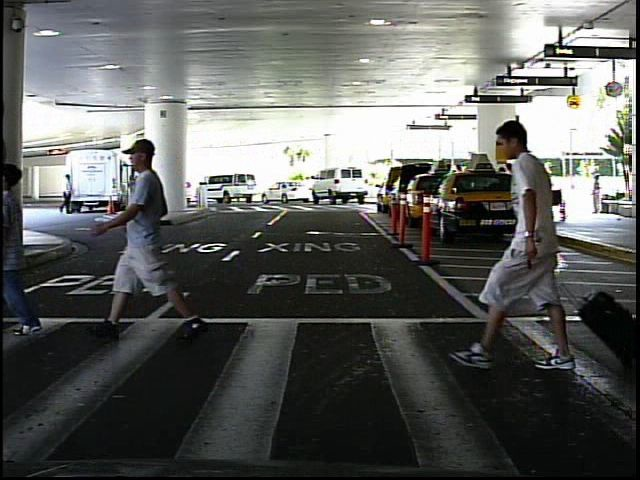person: (457, 113, 593, 379), (110, 130, 197, 343), (56, 171, 78, 220), (589, 172, 606, 217)
